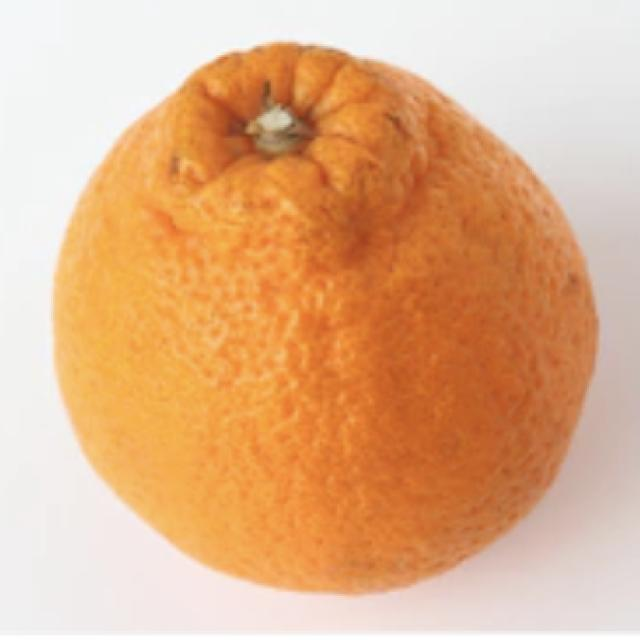orange: (46, 30, 620, 614)
